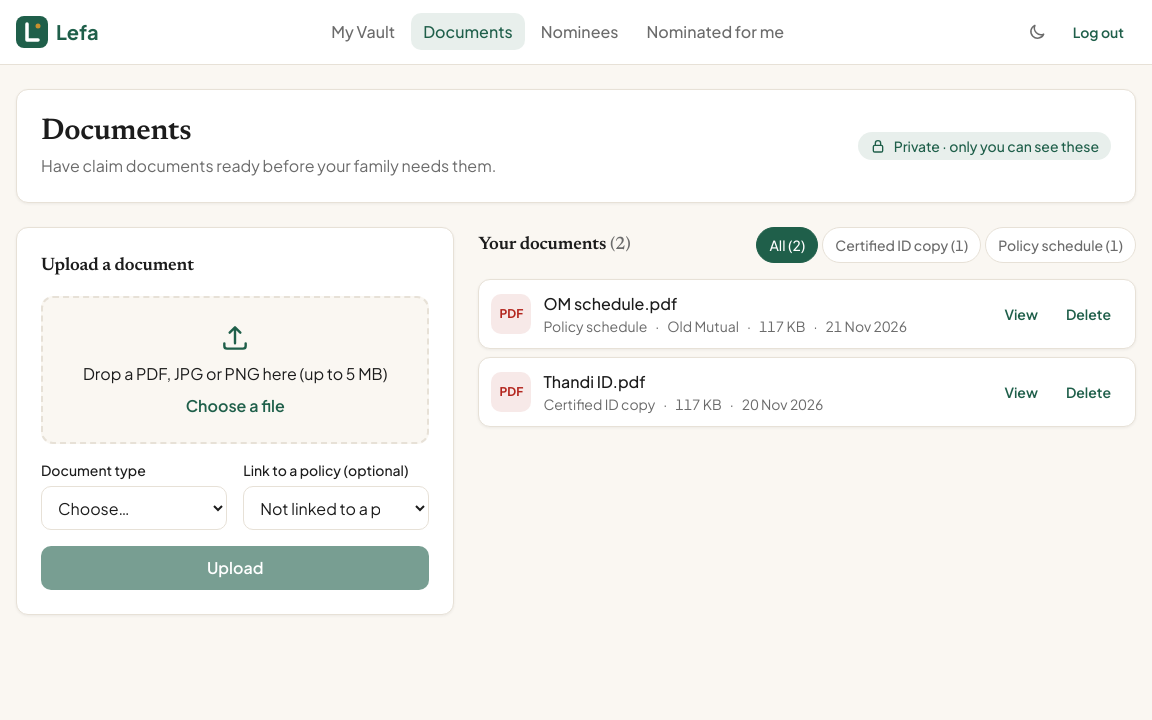
it: Documents page (S6) › Delete asks first, then removes the document
Click the button with aria-label "Delete Thandi ID.pdf" at (1088, 392), box [1054,374,1123,410]
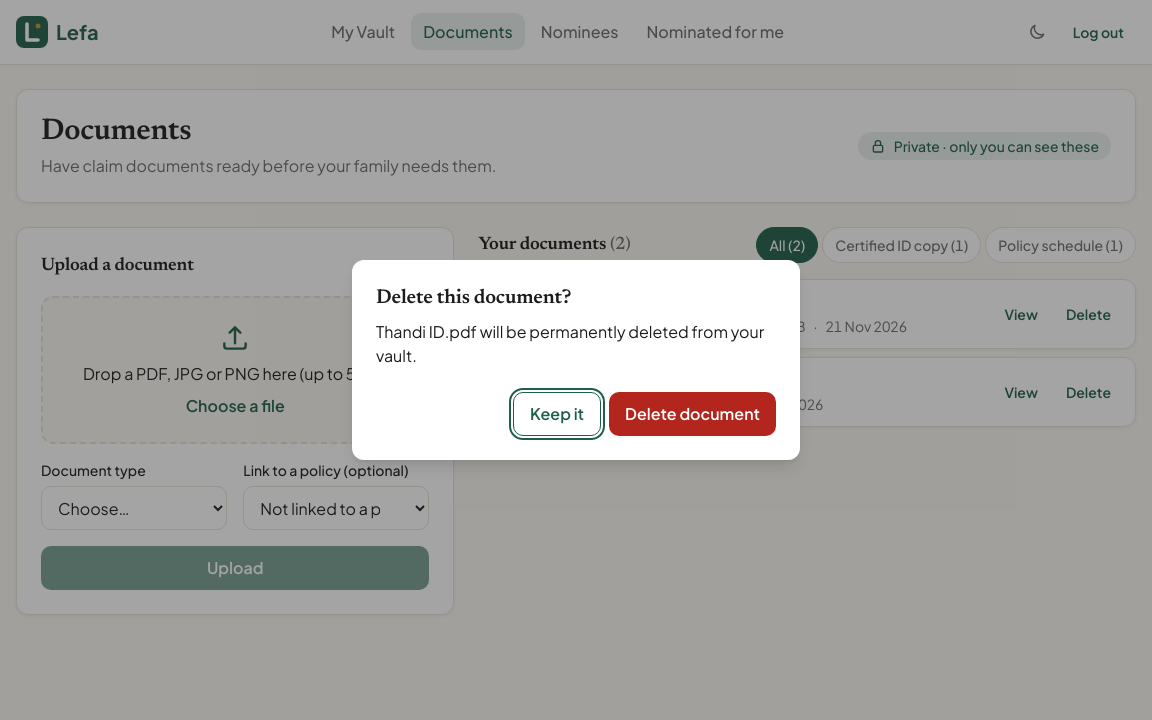
Click the button "Delete document" at (693, 414), box [609,392,776,436]
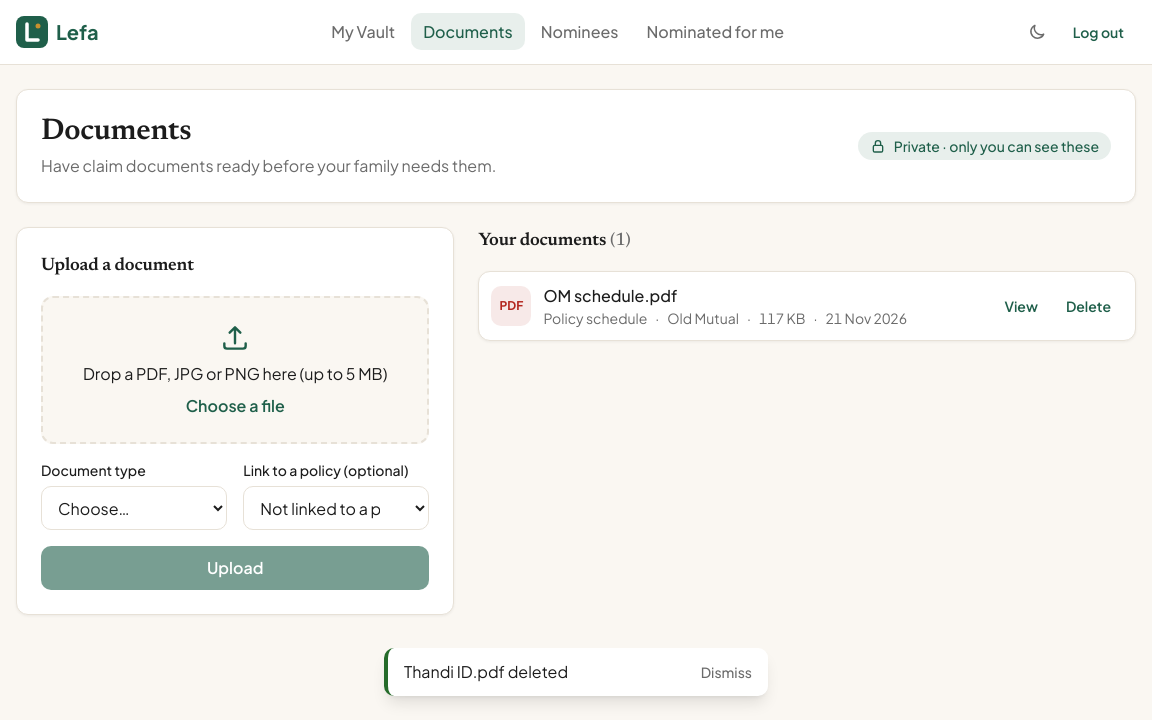
Check: the message shows "Thandi ID.pdf deleted", box [404,661,568,682]
